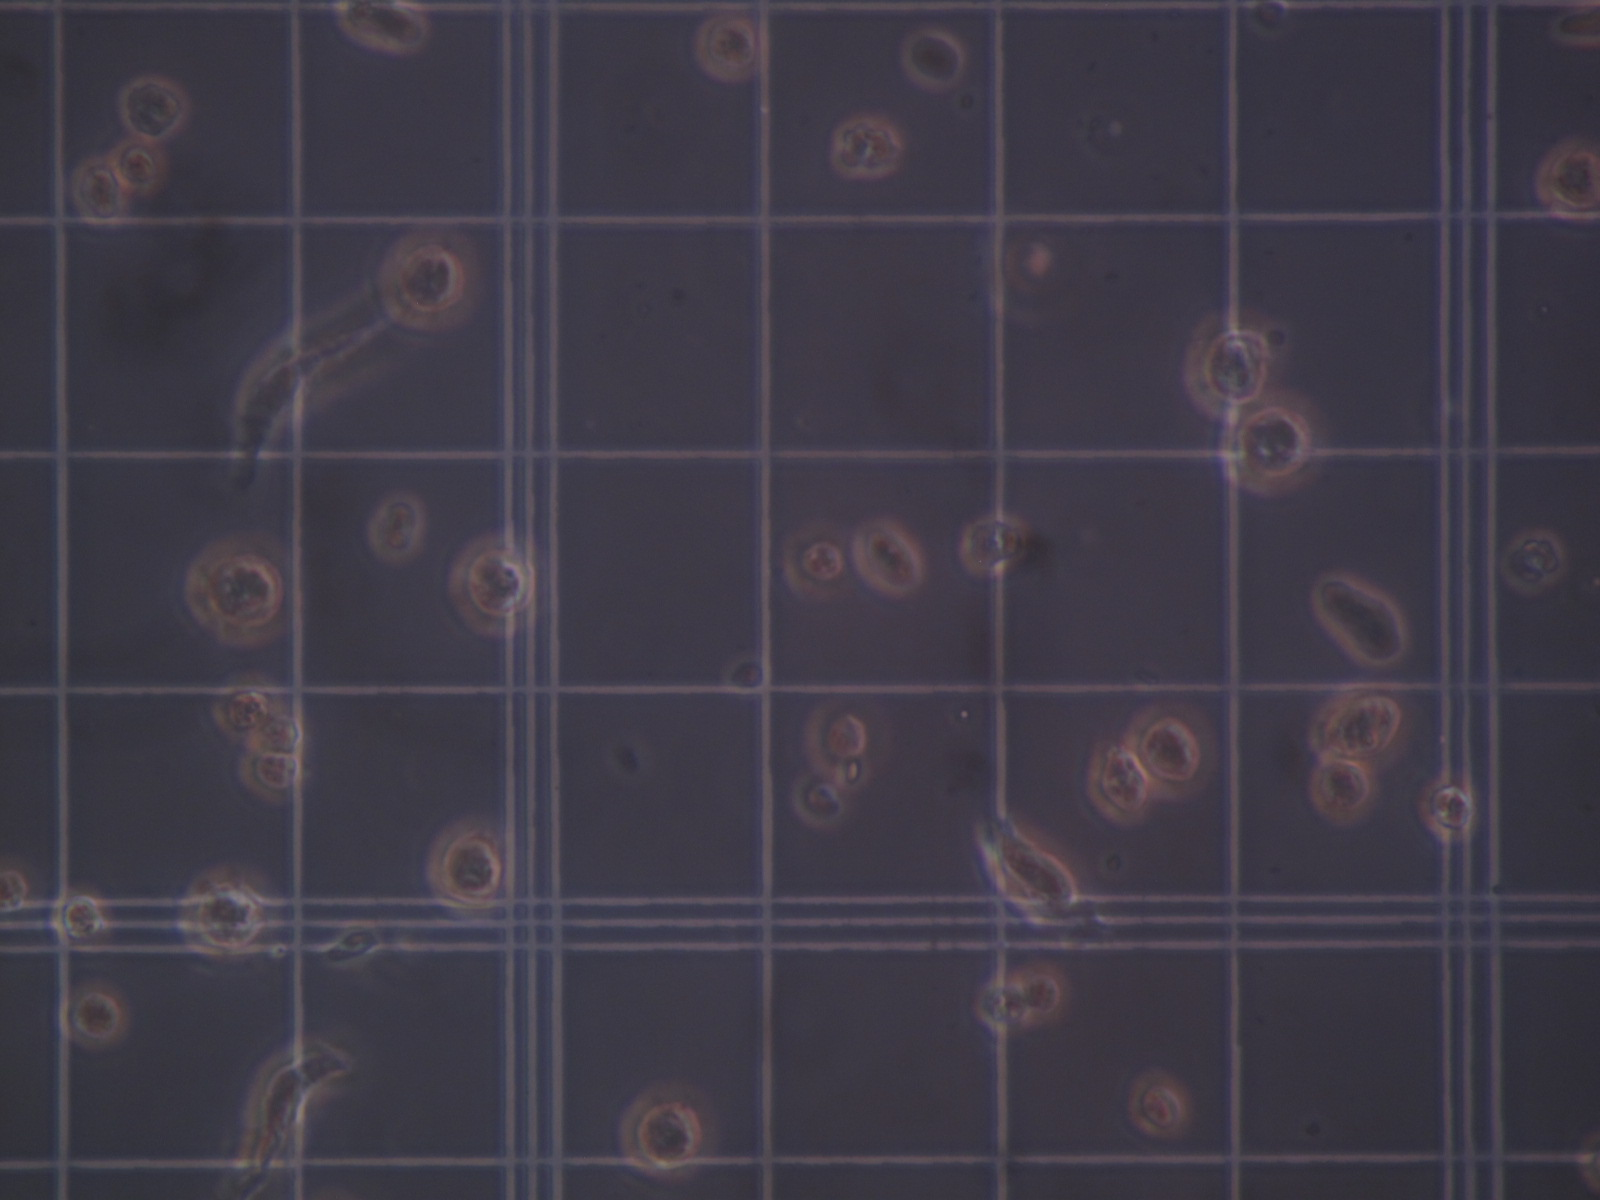hemo: (1180, 313, 1288, 424), (1217, 393, 1329, 495), (186, 534, 289, 647), (379, 229, 479, 333), (1124, 697, 1220, 802), (620, 1083, 717, 1184), (449, 531, 537, 635), (1305, 683, 1406, 770), (1311, 575, 1407, 666), (179, 868, 265, 957), (425, 817, 505, 908), (808, 697, 887, 782), (995, 834, 1077, 910), (1083, 744, 1154, 827), (55, 978, 131, 1053), (853, 517, 923, 596), (333, 1, 431, 55), (1532, 135, 1592, 222), (690, 13, 763, 83), (118, 76, 193, 141), (1502, 528, 1570, 594), (784, 529, 847, 597), (68, 158, 129, 228), (959, 516, 1026, 579), (831, 117, 901, 178), (368, 490, 425, 563), (901, 26, 966, 89), (1310, 760, 1374, 823), (1129, 1071, 1191, 1137), (1420, 778, 1477, 841), (110, 134, 168, 194), (236, 749, 302, 800), (212, 674, 267, 736), (976, 976, 1032, 1036), (1020, 966, 1070, 1026), (792, 774, 849, 826), (49, 887, 106, 938), (248, 712, 307, 758), (718, 650, 771, 695), (1, 870, 31, 913)
